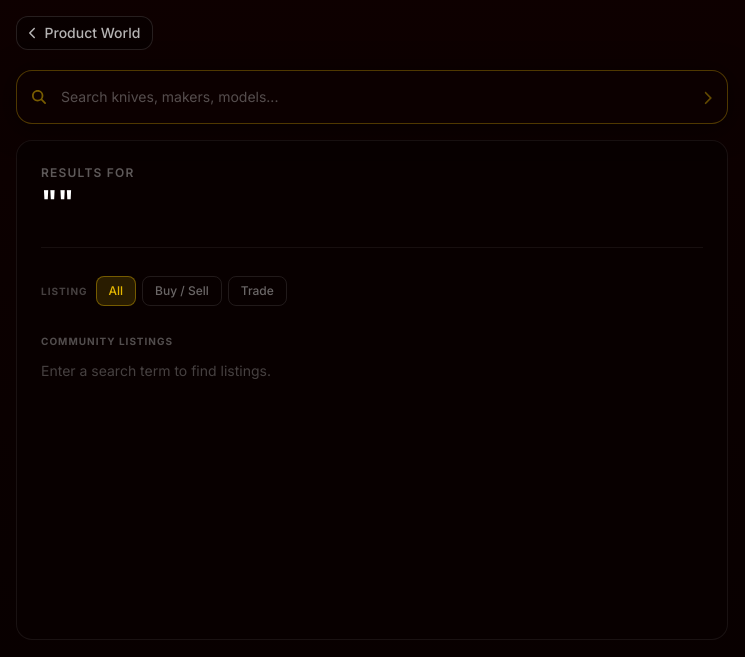
it: ProductWorldSearchPage — search input › submits a trimmed query on Enter, updating the URL
Expected: the text "Enter a search term to find listings." is shown, [41, 362, 271, 379]
In the field with placeholder "Search knives, makers, models...": (372, 97) [16, 70, 728, 124], type "  butterfly  "
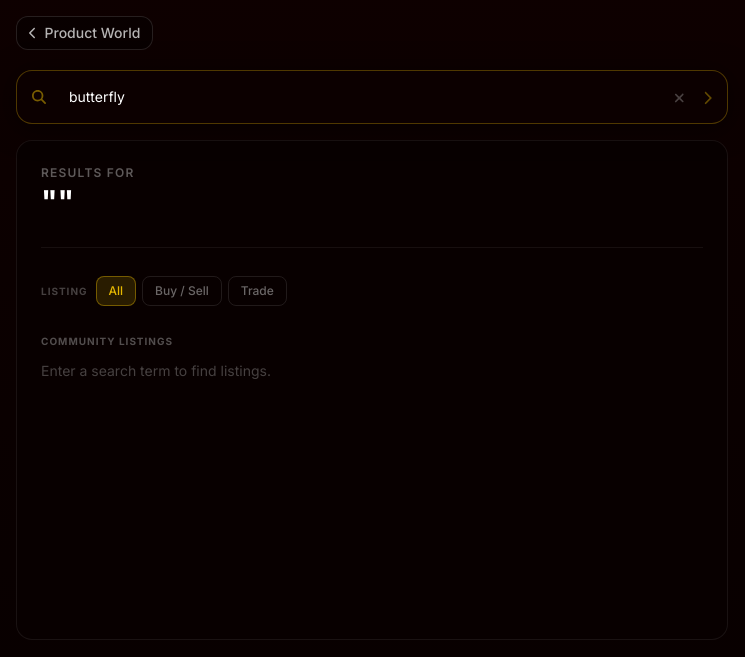
Press Enter in the field with placeholder "Search knives, makers, models...", box [16, 70, 728, 124]
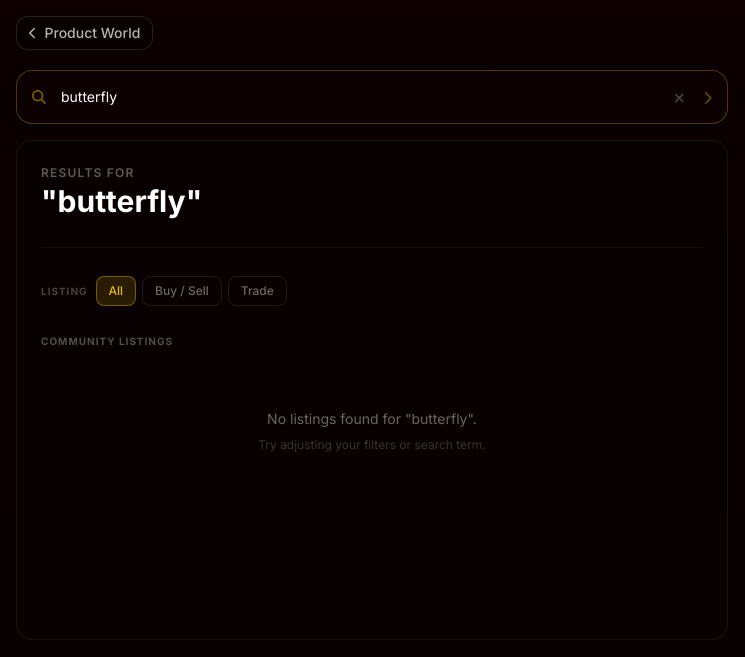
Result: the heading "\"butterfly\"" is shown at [41, 183, 202, 219]
